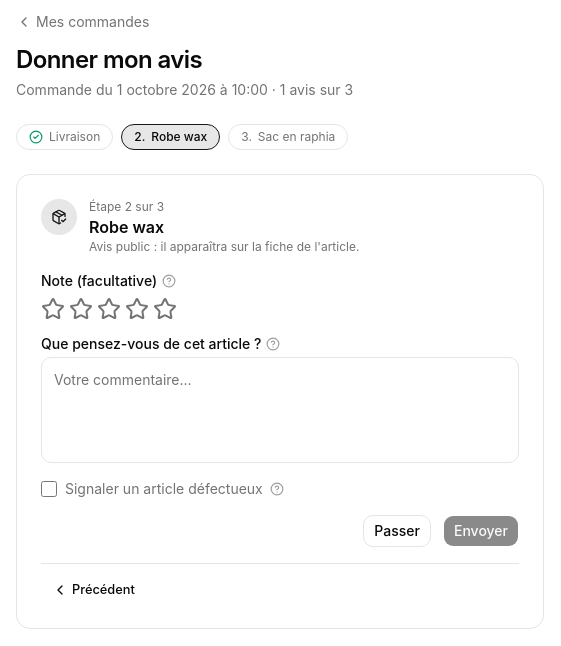
Test: OrderFeedbackPageContent › resumes at the first open step and shows a given feedback read-only, with the shop's reply
The image size is (561, 646).
Expected: the heading "Robe wax" is shown, [89,217,164,237]
What coordinates should you click on to do the following:
click the button "Livraison"
I would click on:
 (65, 137)
Its box is [16,124,113,150].
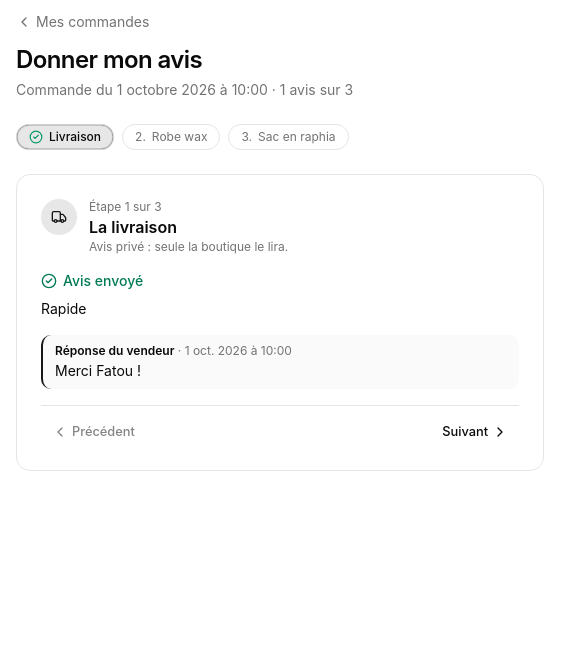
Now the text "Rapide" is shown, box [41,300,86,317]
Now the text "Réponse du vendeur" is shown, box [55,343,174,358]
Now the text "Merci Fatou !" is shown, box [55,362,141,379]
